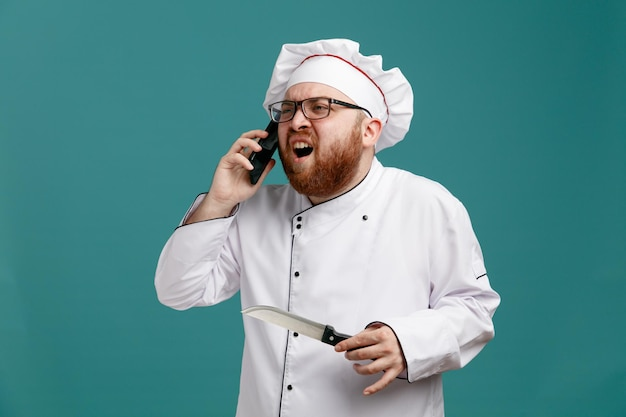knife: (239, 304, 351, 352)
